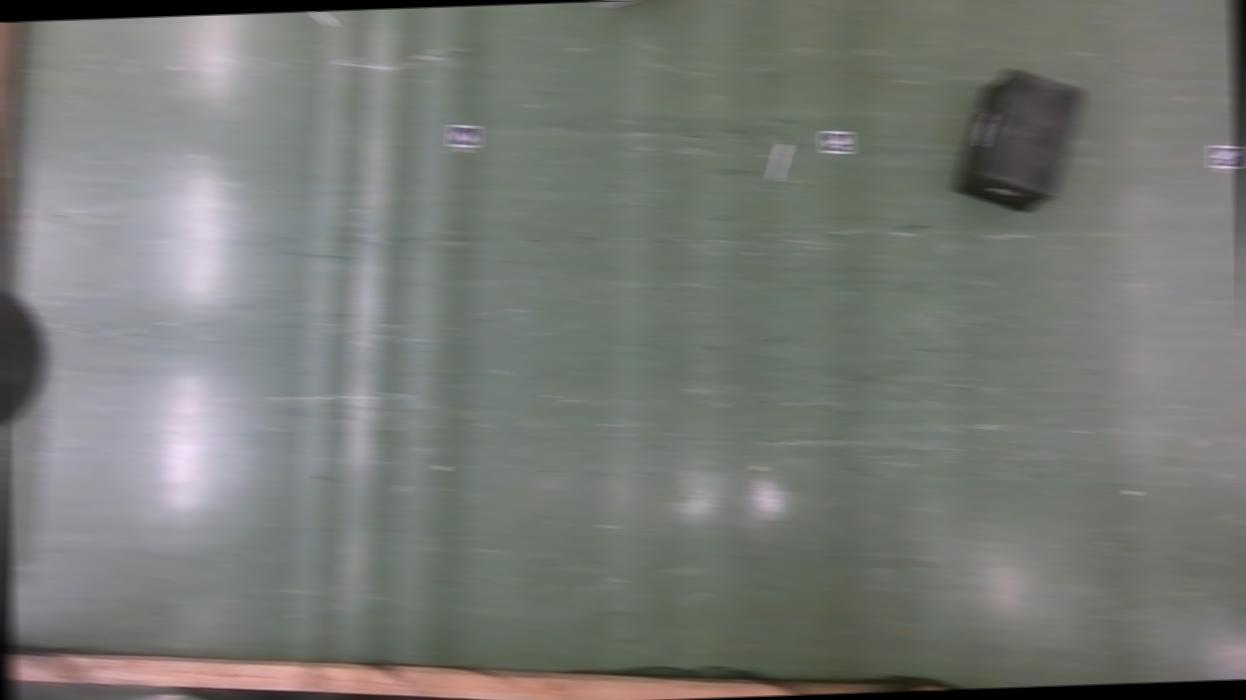probes: (768, 144, 789, 182)
rako: (948, 68, 1090, 217)
